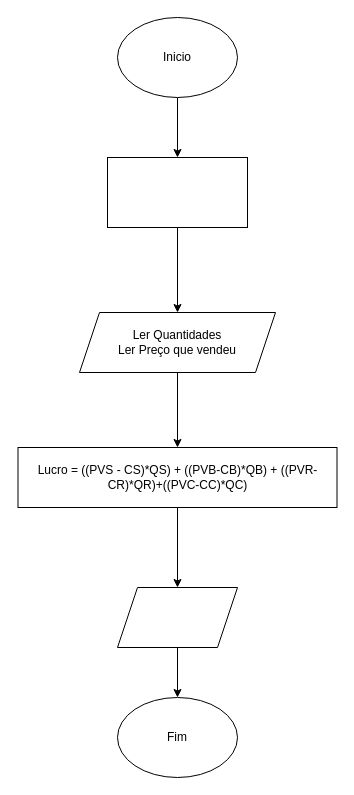
Some shapes in this 354 by 795 pixel diagram are drawn without their labels. Each missing label, with the centre of its shape:
CS = 1 CB = 0.8 CR = 1.5 CC = 0.6: (177,192)
Escrever Lucro: (177,617)
